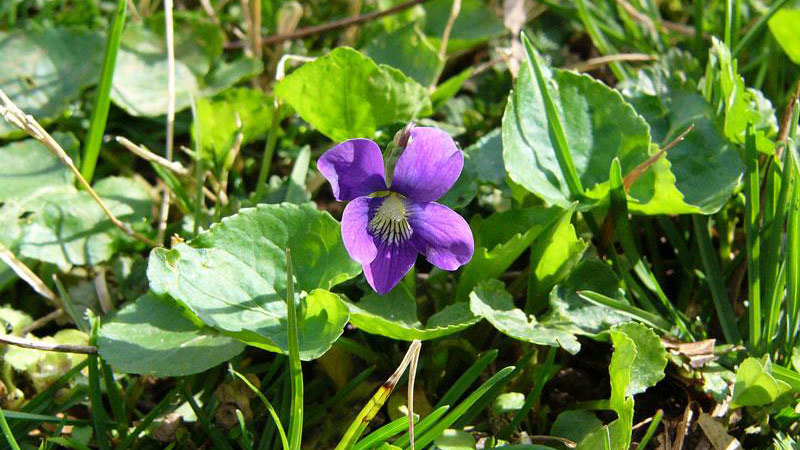violet: (299, 125, 479, 290)
